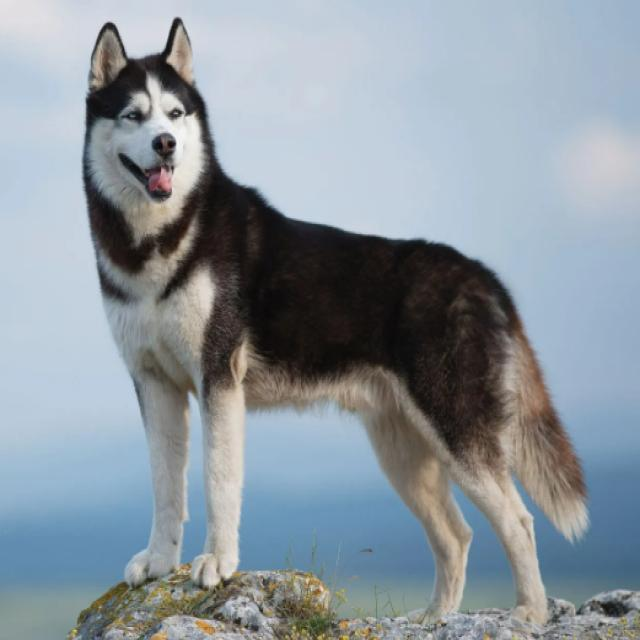Siberian Husky: (83, 19, 590, 621)
